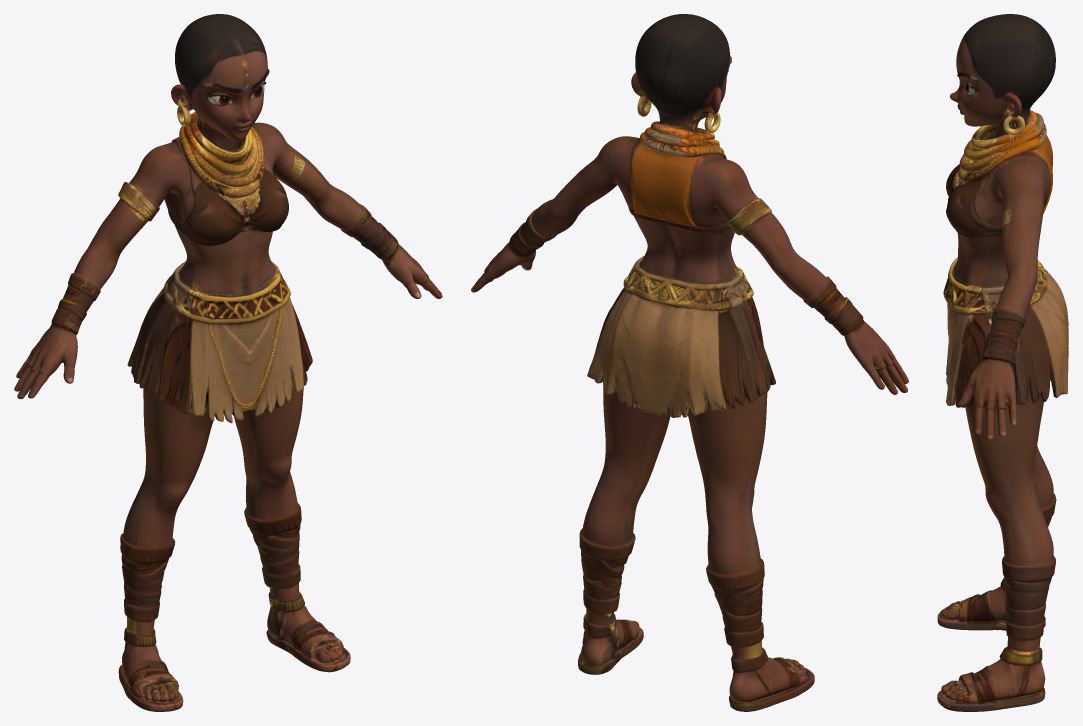
Rendered from Warrior_s_Spirit_1010143932_texture.glb.
The picture shows the model from 3 angles, left to right: view 1: azimuth 30°, elevation 25°; view 2: azimuth 150°, elevation 25°; view 3: azimuth 270°, elevation 25°; orthographic projection. The views are drawn at different scales.
Bounding box in the file's own units: 1.31 × 1.9 × 0.3522.
Materials: 1 (1 with a texture image).
